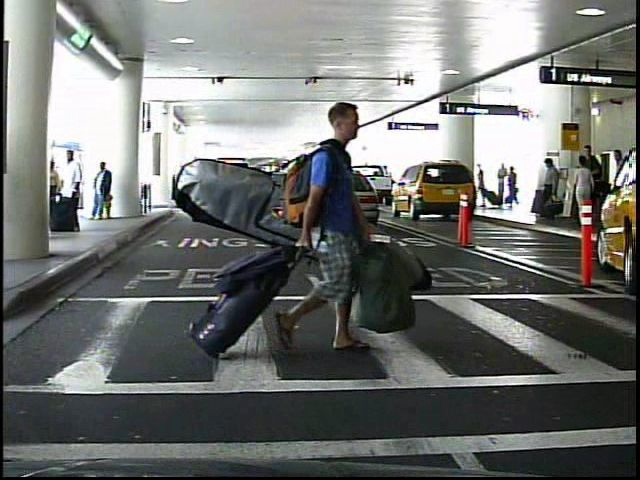person: (288, 90, 388, 369), (56, 146, 86, 234), (569, 155, 594, 227), (82, 159, 108, 226), (538, 157, 562, 224), (577, 143, 597, 221), (473, 161, 487, 209), (496, 162, 509, 209), (505, 163, 516, 207)
